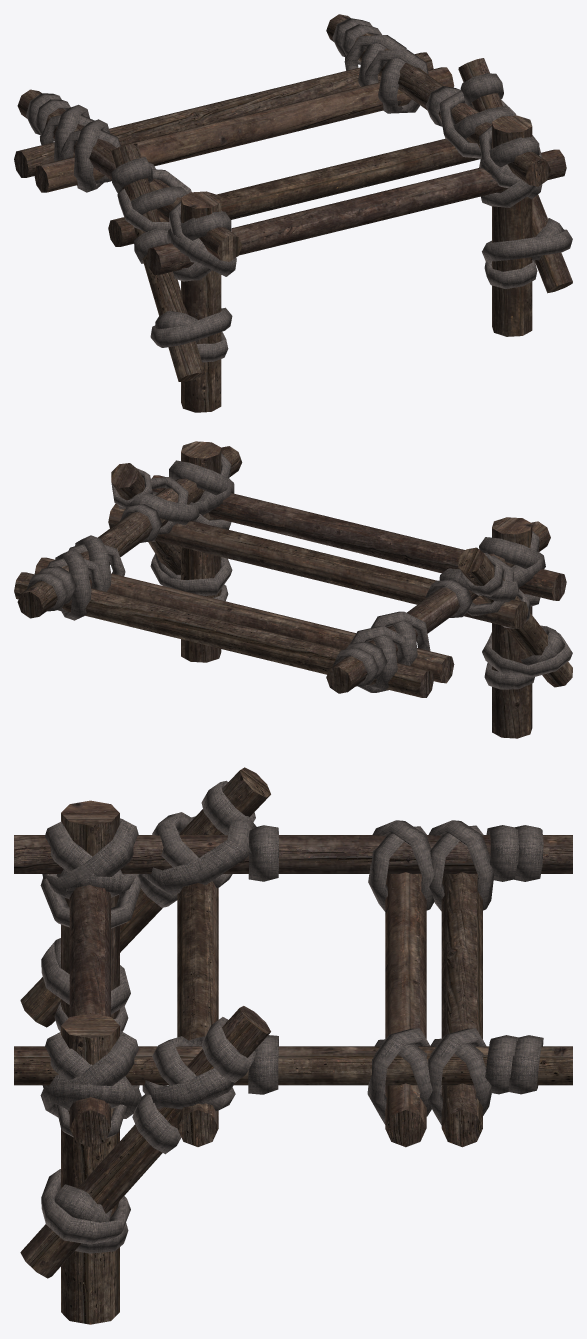
The model's file is P_Ladder02_Up.FBX.
3 renders of one model, top to bottom at view 1: azimuth 30°, elevation 25°; view 2: azimuth 150°, elevation 25°; view 3: azimuth 270°, elevation 25°, orthographic. The views are drawn at different scales.
Parts seen in each view (by area): view 1: P_Ladder02_Up; view 2: P_Ladder02_Up; view 3: P_Ladder02_Up.
Boxes of the visible parts, x1,y1,x2,y2 form: P_Ladder02_Up: (14, 14, 572, 412); P_Ladder02_Up: (14, 441, 572, 738); P_Ladder02_Up: (14, 767, 572, 1324).
Size of the model in its own units: 107 by 55.9 by 89.43.
